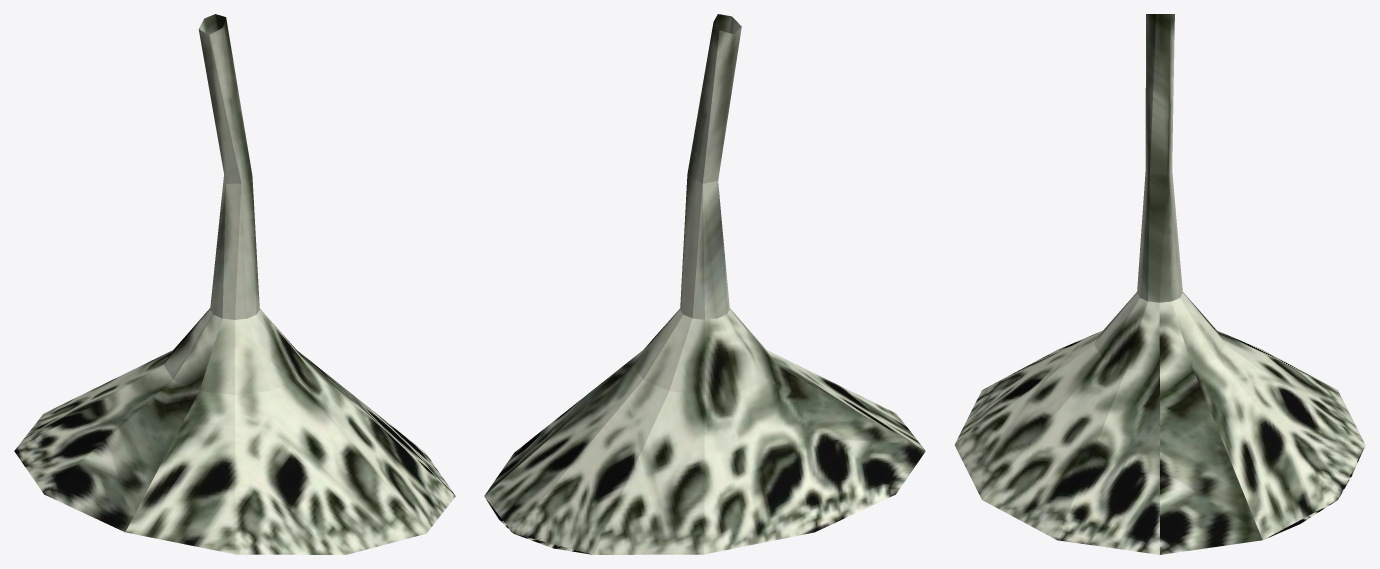
Rendered from lichen-cladonia-cervicornis-segment.fbx.
3 renders of one model, left to right at view 1: azimuth 30°, elevation 25°; view 2: azimuth 150°, elevation 25°; view 3: azimuth 270°, elevation 25°, orthographic. The views are drawn at different scales.
Visible parts, largest first — view 1: lychen_trumpet_large; view 2: lychen_trumpet_large; view 3: lychen_trumpet_large.
Boxes of the visible parts, x1=… form: lychen_trumpet_large: x1=14, y1=14, x2=455, y2=554; lychen_trumpet_large: x1=484, y1=14, x2=925, y2=554; lychen_trumpet_large: x1=954, y1=14, x2=1365, y2=554.
Bounding box in the file's own units: 99.18 × 121 × 100.
